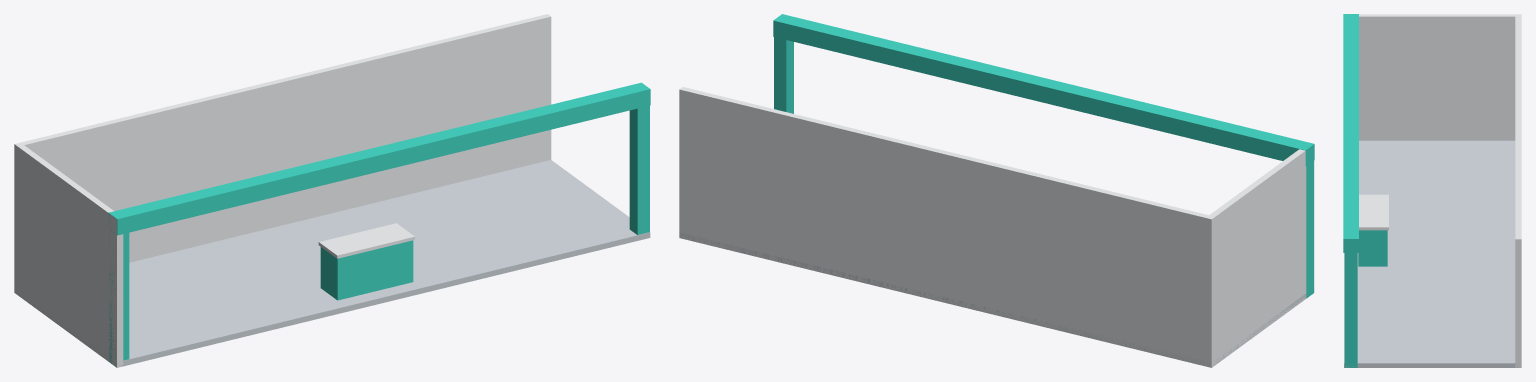
The picture shows the model from 3 angles, left to right: view 1: azimuth 30°, elevation 25°; view 2: azimuth 150°, elevation 25°; view 3: azimuth 270°, elevation 25°; orthographic projection. The views are drawn at different scales.
Parts seen in each view (by area): view 1: Exhibition Booth Concept; view 2: Exhibition Booth Concept; view 3: Exhibition Booth Concept.
Part boxes in pixels (x1,y1,x2,y2): Exhibition Booth Concept: (14, 14, 650, 367); Exhibition Booth Concept: (679, 14, 1314, 367); Exhibition Booth Concept: (1343, 14, 1521, 367).
Size of the model in its own units: 12 by 3.2 by 4.02.
